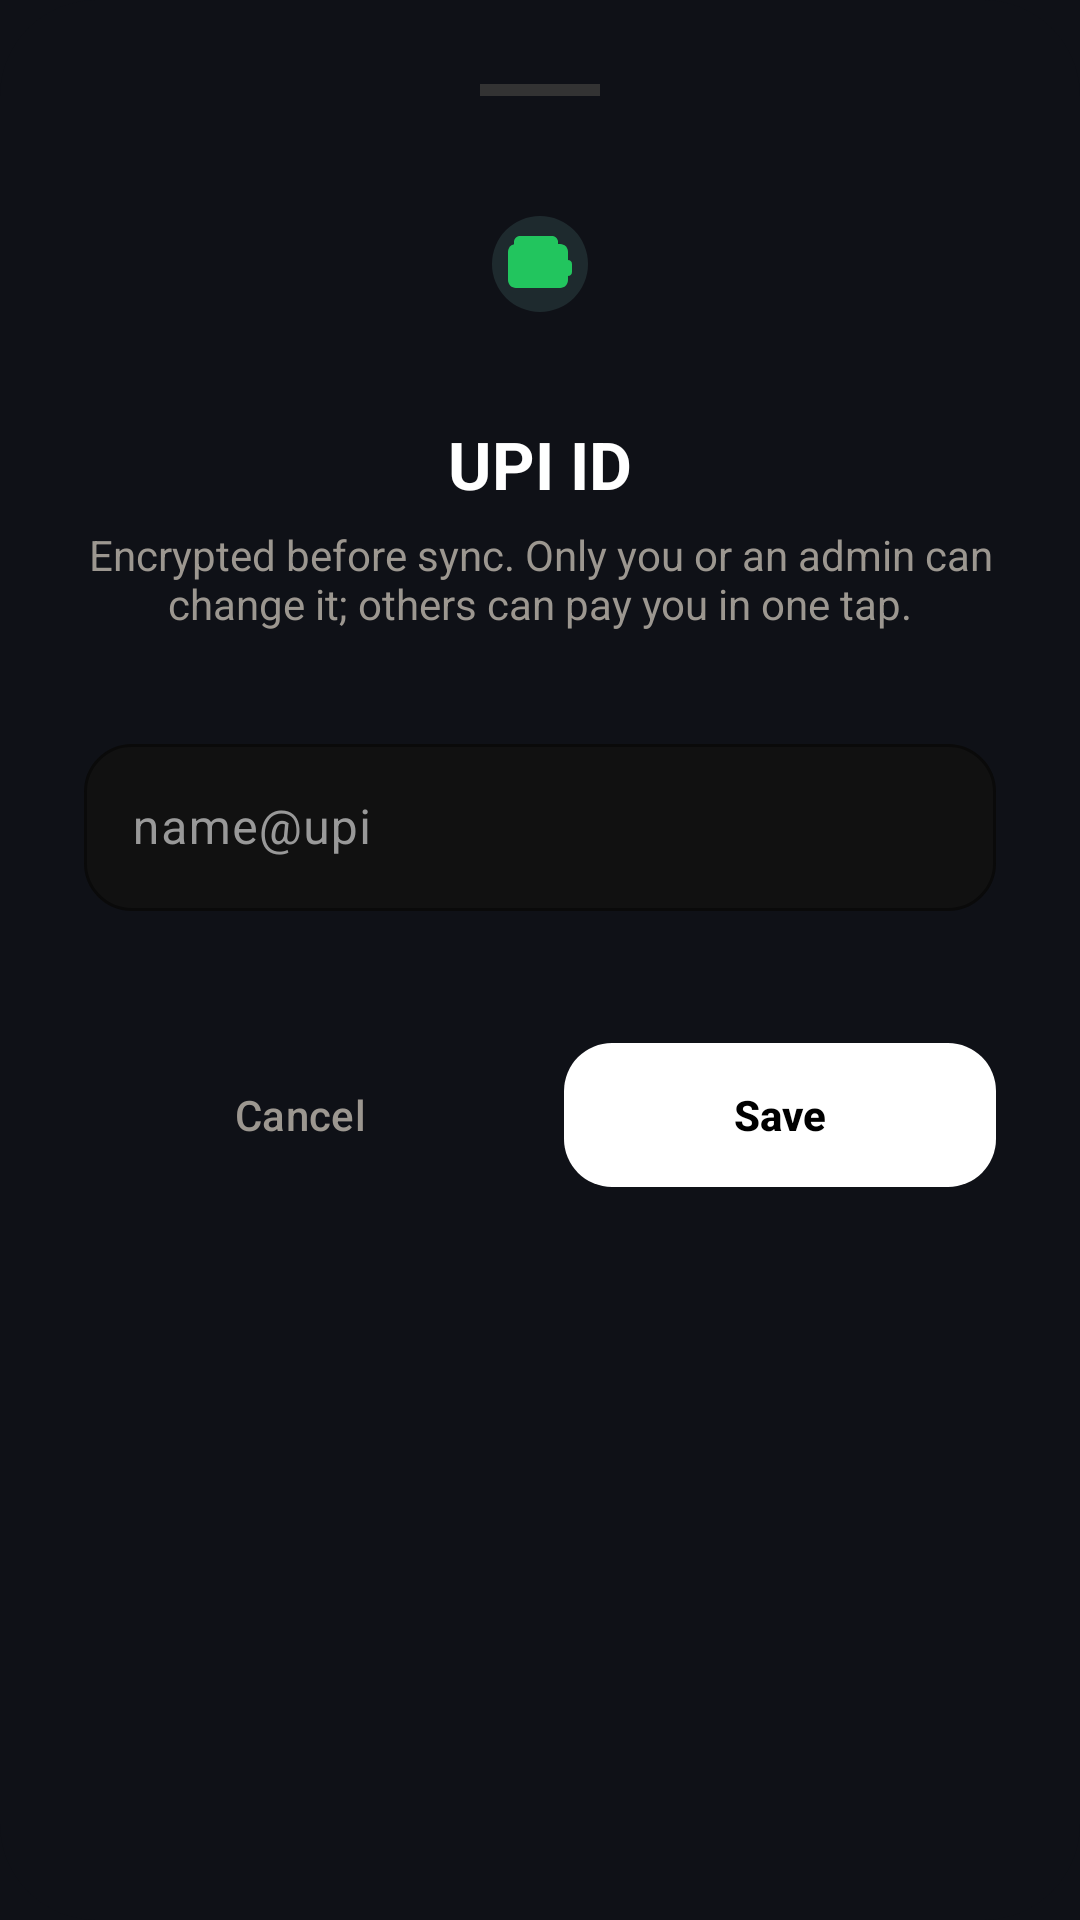

Screen size 1080*1920. Icon name, then its center in pixels as (x,y):
wallet modern: (539,264)
